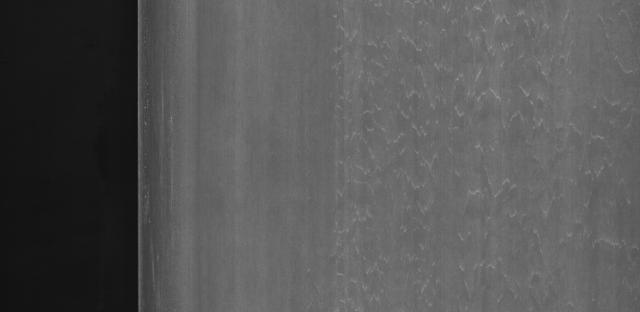silk_spot: (326, 11, 630, 307)
